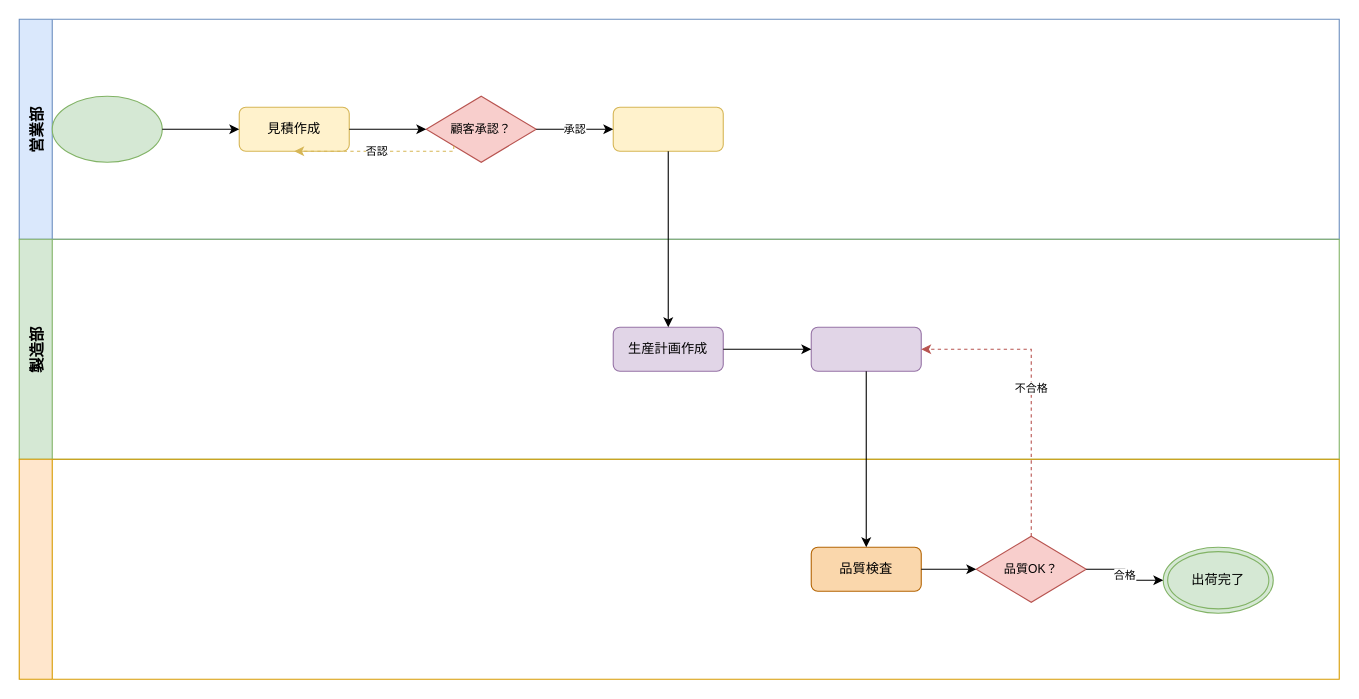
Image size: 1359x699. Some labels were removed from this diagram. Each missing label, with the box of its shape:
受注登録: (612, 106, 723, 151)
品質管理部: (18, 458, 1339, 679)
製品製造: (810, 326, 921, 371)
顧客からの 問い合わせ: (51, 95, 162, 162)
